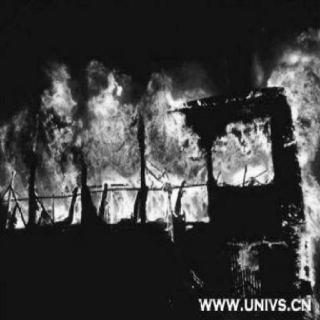Fire: (6, 11, 316, 311)
